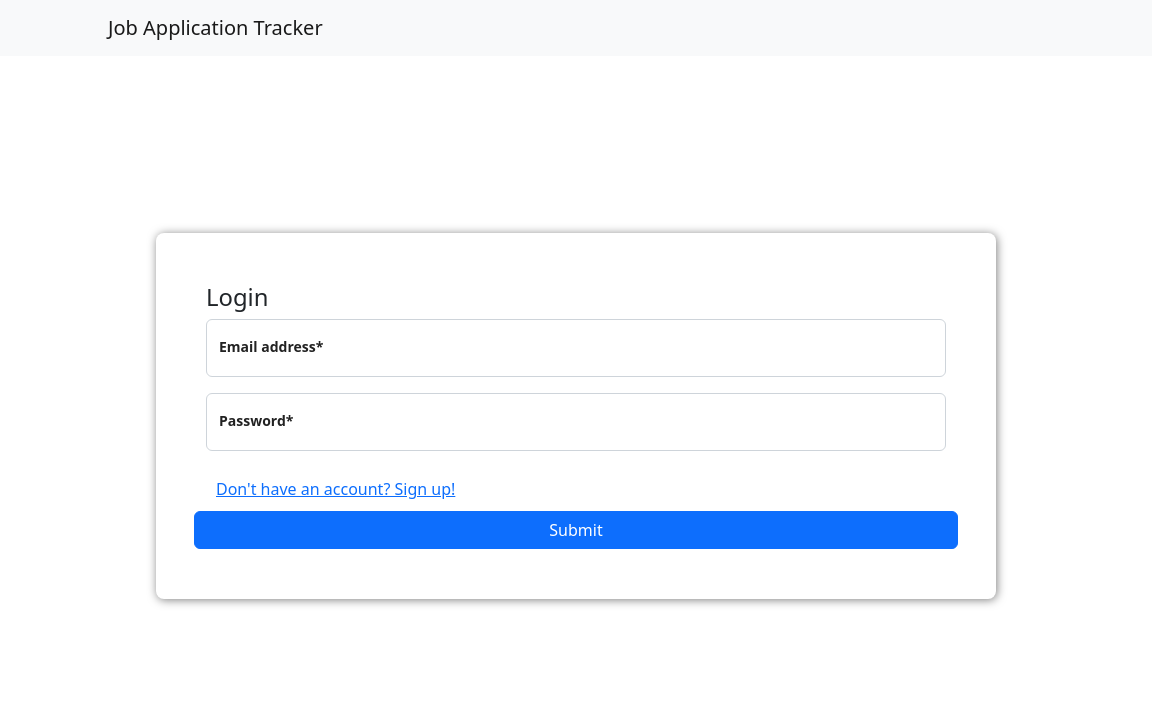
Test case: Login Page UI tests › Entering data tests › when submit button is pressed when there is no email or password should display errors
What coordinates should you click on to do the following:
click the button with test id "loginSubmit"
I would click on:
 (576, 530)
Its box is [194, 511, 958, 549].
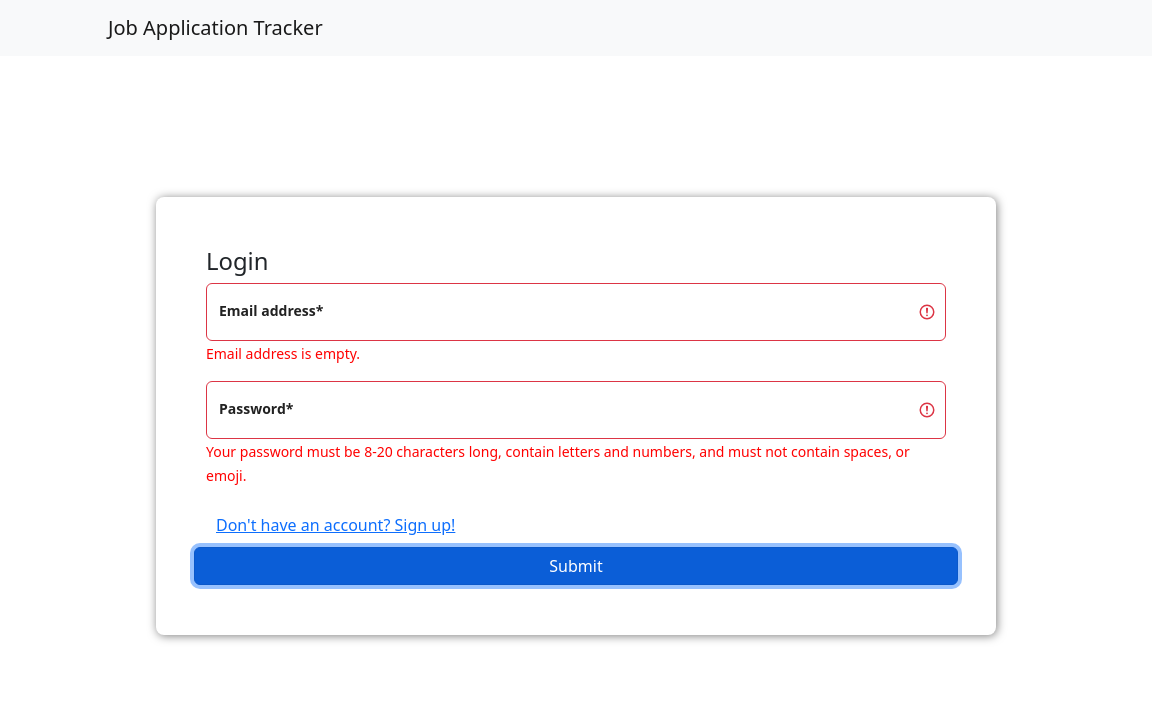
Check: the text "Email address is empty." is shown, box [206, 344, 360, 363]
Check: the text with test id "passwordHelperText" is shown, box [206, 442, 910, 485]
